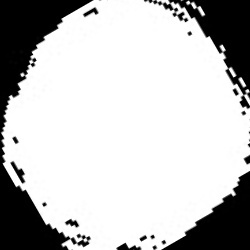spot: (5, 2, 249, 249)
